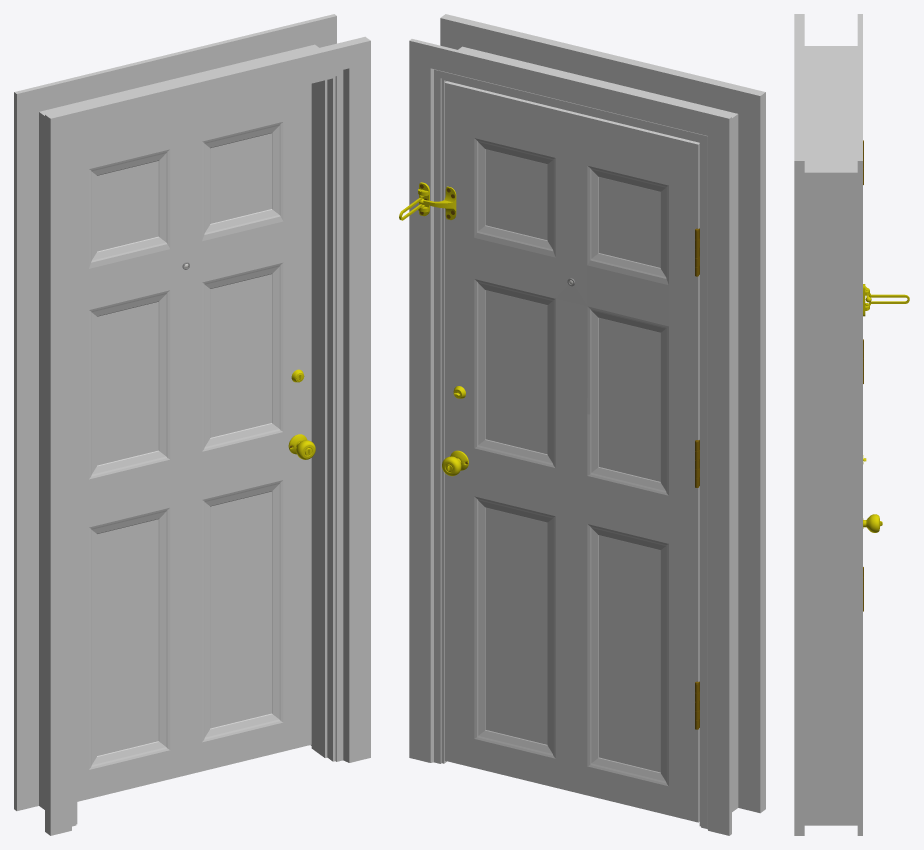
File: FrontDoor.fbx
3 renders of one model, left to right at view 1: azimuth 30°, elevation 25°; view 2: azimuth 150°, elevation 25°; view 3: azimuth 270°, elevation 25°, orthographic. The views are drawn at different scales.
Parts seen in each view (by area): view 1: Front_Door, Front_Door_Frame; view 2: Front_Door, Front_Door_Frame; view 3: Front_Door_Frame, Limiter_Latch, Front_Doorknob.
Boxes of the visible parts, x1=… form: Front_Door: x1=77, y1=83, x2=311, y2=801; Front_Door_Frame: x1=14, y1=14, x2=370, y2=835; Front_Door: x1=444, y1=81, x2=699, y2=822; Front_Door_Frame: x1=409, y1=14, x2=765, y2=835; Front_Door_Frame: x1=794, y1=14, x2=862, y2=835; Limiter_Latch: x1=865, y1=289, x2=909, y2=305; Front_Doorknob: x1=863, y1=514, x2=882, y2=532.
Bounding box in the file's own units: 327 × 700 × 108.
